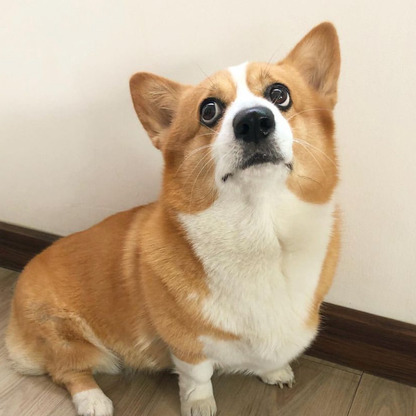Corgi: (27, 39, 370, 403)
